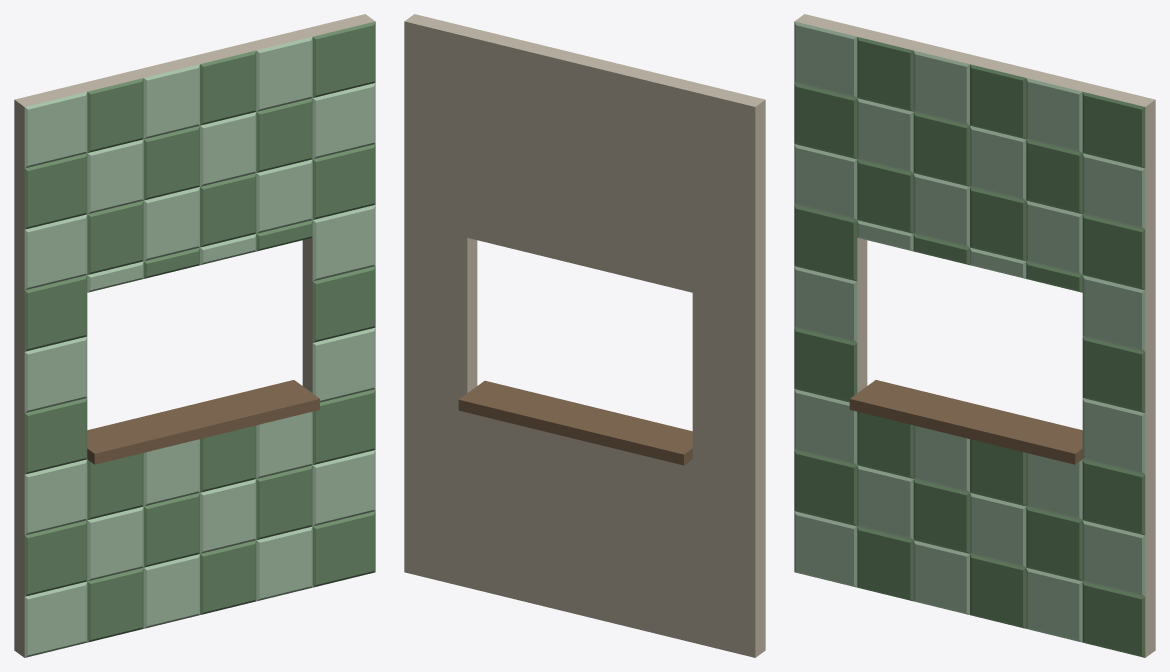
Rendered from Mesh_WallCeramic_M3.fbx.
3 renders of one model, left to right at view 1: azimuth 30°, elevation 25°; view 2: azimuth 150°, elevation 25°; view 3: azimuth 330°, elevation 25°, orthographic.
Visible parts, largest first — view 1: Mesh_WallCeramic_M3; view 2: Mesh_WallCeramic_M3; view 3: Mesh_WallCeramic_M3.
Part boxes in pixels (box(x1,y1,x2,y2)): Mesh_WallCeramic_M3: box(14, 14, 375, 657); Mesh_WallCeramic_M3: box(404, 14, 765, 657); Mesh_WallCeramic_M3: box(794, 14, 1155, 657).
Size of the model in its own units: 2 by 3 by 0.2574.
